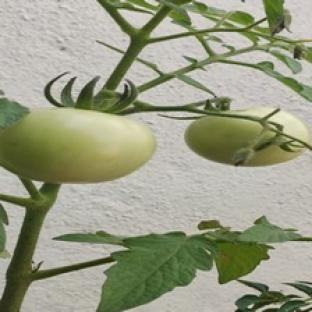Tomato: (0, 109, 155, 183), (186, 116, 305, 165)
